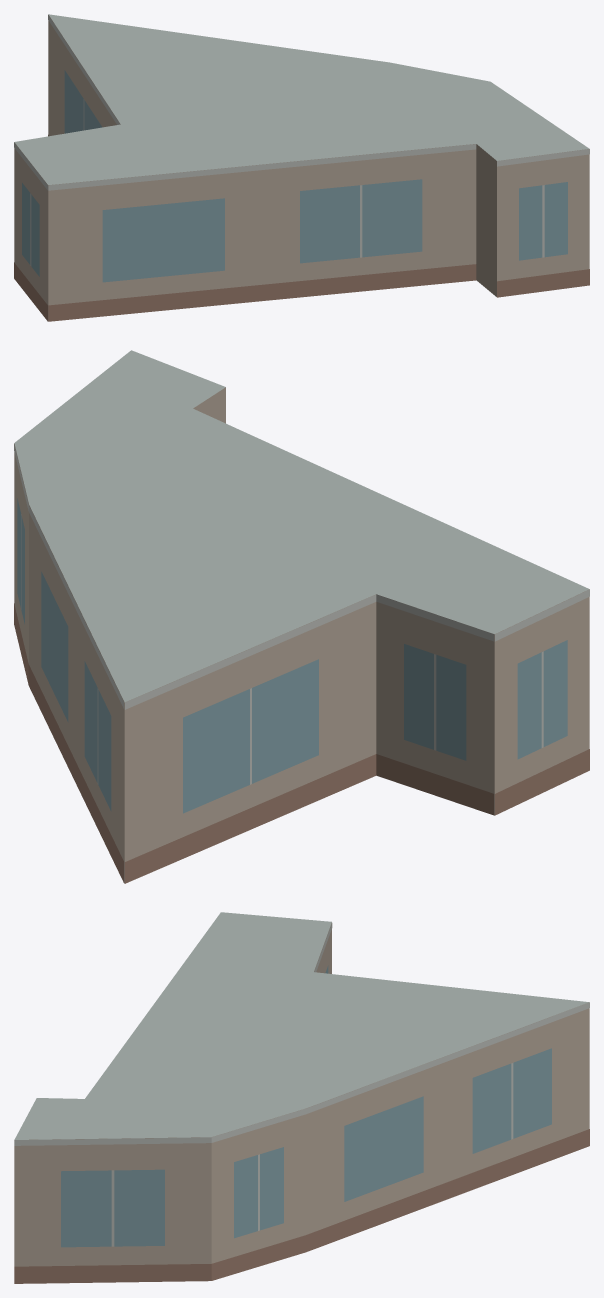
The model's file is survey-upis-32619607.glb.
3 renders of one model, top to bottom at view 1: azimuth 30°, elevation 25°; view 2: azimuth 150°, elevation 25°; view 3: azimuth 270°, elevation 25°, orthographic. The views are drawn at different scales.
Visible parts, largest first — view 1: survey-upis-32619607.tmp; view 2: survey-upis-32619607.tmp; view 3: survey-upis-32619607.tmp.
Boxes of the visible parts, bbox=[...] form: survey-upis-32619607.tmp: bbox=[14, 14, 589, 321]; survey-upis-32619607.tmp: bbox=[14, 350, 589, 883]; survey-upis-32619607.tmp: bbox=[14, 912, 589, 1283].
Size of the model in its own units: 10.38 by 3.05 by 11.07.
